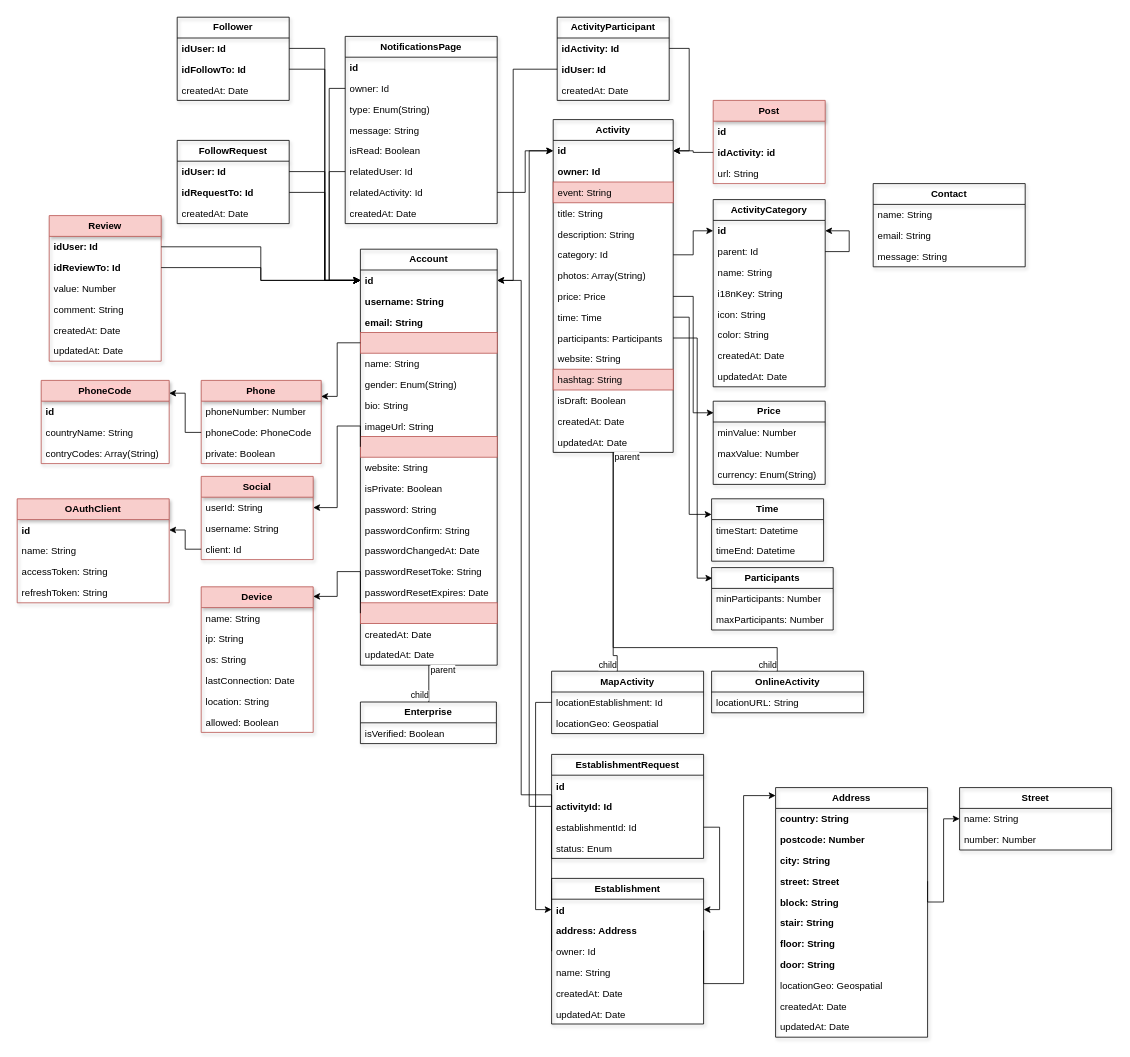
This 1130x1057 diagram has some shape labels left out. The shapes that lost their labels are listed below. From the top down, each one's centre as x and y in pixels, then its label:
At [428,342]: "phone: Phone".
At [428,446]: "socials: Array(Social)".
At [428,613]: "devices: Array(Device)".
